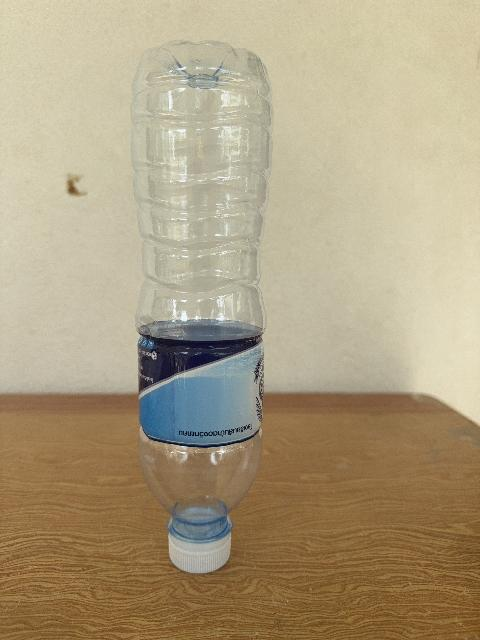bottle: (132, 42, 272, 572)
